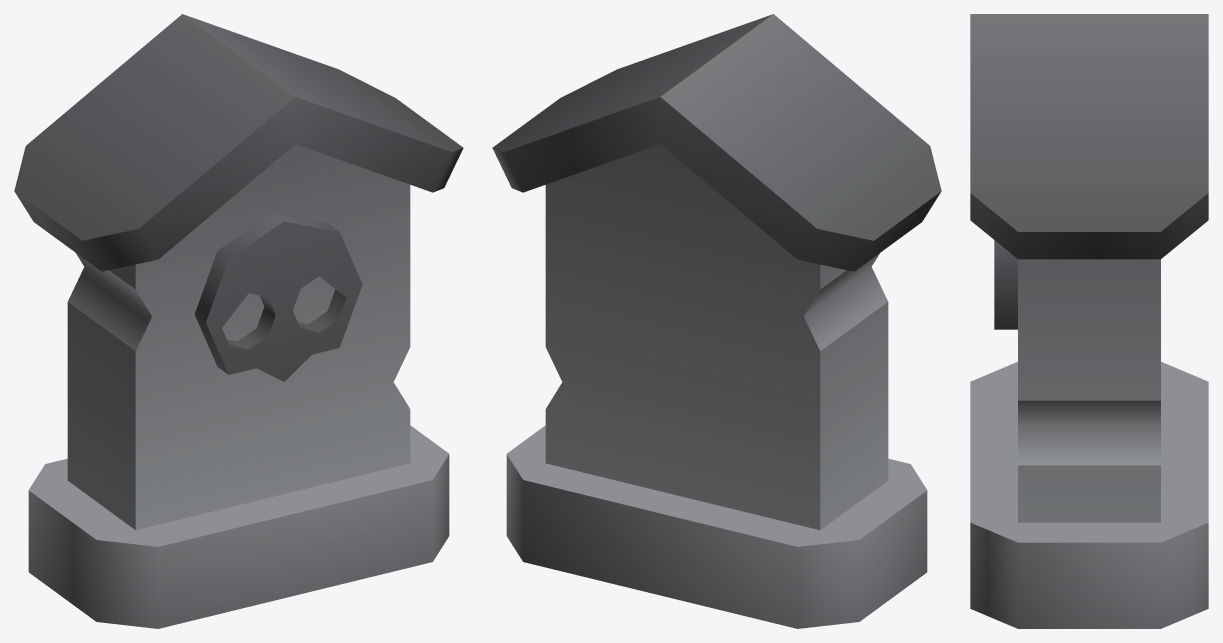
File: gravestone-roof.glb
The picture shows the model from 3 angles, left to right: view 1: azimuth 30°, elevation 25°; view 2: azimuth 150°, elevation 25°; view 3: azimuth 270°, elevation 25°; orthographic projection. The views are drawn at different scales.
Parts seen in each view (by area): view 1: gravestone-roof; view 2: gravestone-roof; view 3: gravestone-roof.
Part boxes in pixels (box(x1,y1,x2,y2)): gravestone-roof: box(14, 14, 463, 628); gravestone-roof: box(492, 14, 941, 628); gravestone-roof: box(970, 14, 1208, 628).
Size of the model in its own units: 0.7296 by 0.9114 by 0.375.
Materials: 1 (1 with a texture image).
